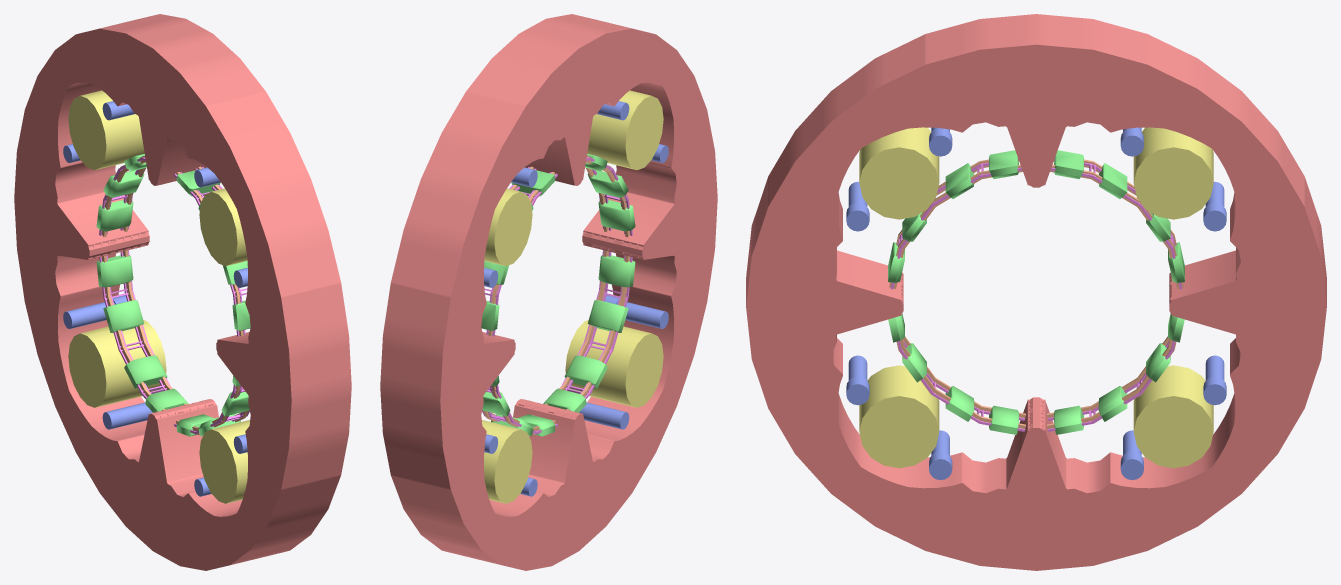
The model's file is TubeA_v5.FBX.
3 views of the same model, side by side, from view 1: azimuth 30°, elevation 25°; view 2: azimuth 150°, elevation 25°; view 3: azimuth 270°, elevation 25° (orthographic). The views are drawn at different scales.
Visible parts, largest first — view 1: TubeAPartsA_v6_1_001, TubeAPartsC_v6_1_001, TubeAPartsD_v6_1_001, TubeAPartsB_v6_1_001, TubeAPartsE_v6_1_001, TubeAPartsF_v6_1_001; view 2: TubeAPartsA_v6_1_001, TubeAPartsC_v6_1_001, TubeAPartsD_v6_1_001, TubeAPartsB_v6_1_001, TubeAPartsE_v6_1_001, TubeAPartsF_v6_1_001; view 3: TubeAPartsA_v6_1_001, TubeAPartsC_v6_1_001, TubeAPartsD_v6_1_001, TubeAPartsB_v6_1_001, TubeAPartsF_v6_1_001, TubeAPartsE_v6_1_001.
Boxes of the visible parts, bbox=[...] form: TubeAPartsA_v6_1_001: bbox=[14, 14, 351, 570]; TubeAPartsC_v6_1_001: bbox=[68, 90, 249, 503]; TubeAPartsD_v6_1_001: bbox=[96, 154, 250, 436]; TubeAPartsB_v6_1_001: bbox=[63, 101, 247, 496]; TubeAPartsE_v6_1_001: bbox=[99, 157, 249, 434]; TubeAPartsF_v6_1_001: bbox=[101, 155, 248, 434]; TubeAPartsA_v6_1_001: bbox=[380, 14, 717, 570]; TubeAPartsC_v6_1_001: bbox=[482, 90, 663, 503]; TubeAPartsD_v6_1_001: bbox=[481, 154, 635, 436]; TubeAPartsB_v6_1_001: bbox=[484, 101, 668, 496]; TubeAPartsE_v6_1_001: bbox=[482, 157, 632, 434]; TubeAPartsF_v6_1_001: bbox=[483, 155, 630, 434]; TubeAPartsA_v6_1_001: bbox=[746, 14, 1326, 570]; TubeAPartsC_v6_1_001: bbox=[859, 127, 1213, 468]; TubeAPartsD_v6_1_001: bbox=[888, 150, 1184, 434]; TubeAPartsB_v6_1_001: bbox=[846, 127, 1226, 480]; TubeAPartsF_v6_1_001: bbox=[889, 159, 1183, 428]; TubeAPartsE_v6_1_001: bbox=[890, 158, 1182, 431].
Size of the model in its own units: 5 by 40 by 40.
